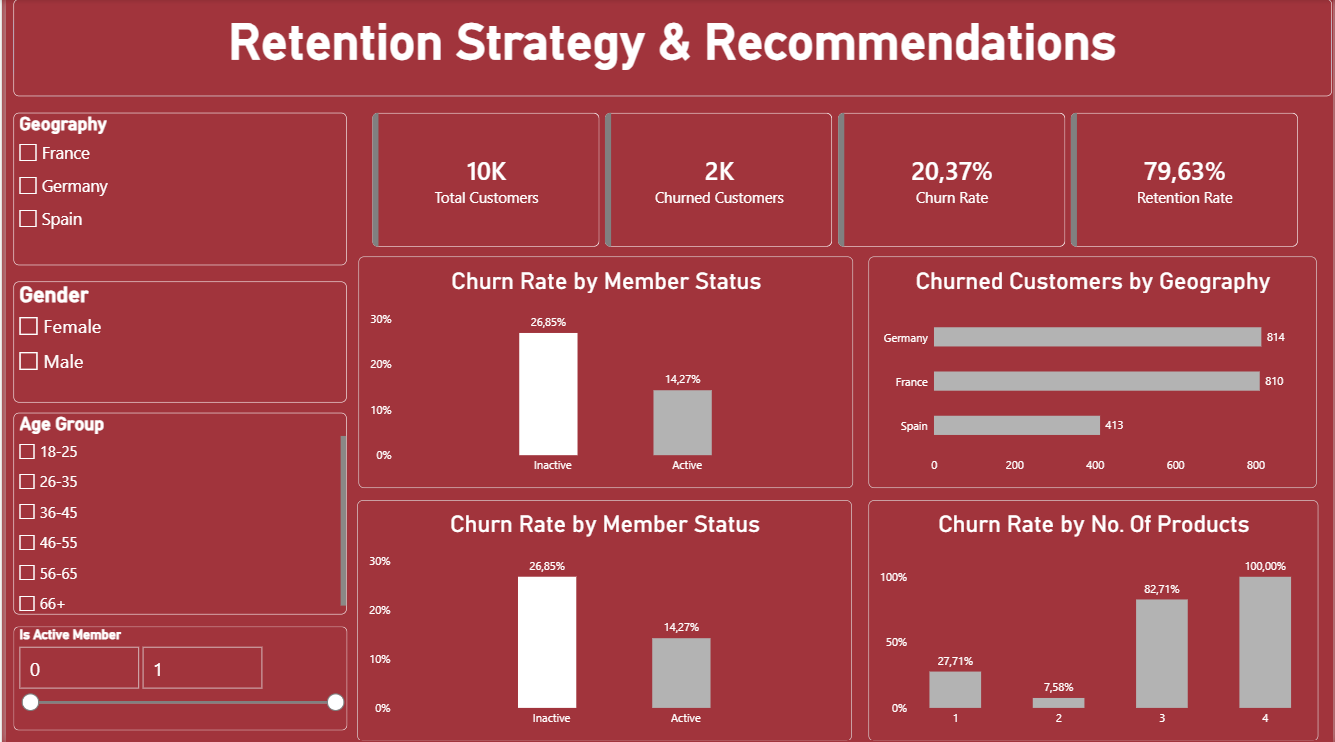

Layout of this report page (visuals, bound fields, positions):
{"tool":"powerbi","page":{"name":"Retention Strategy & Recommendations","canvas":[1920,1080],"ordinal":6},"visuals":[{"type":"textbox","box":[10.8,0,1908.8,279.2],"z":0},{"type":"shape","box":[10.8,0,1908.8,140.7],"z":1000},{"type":"textbox","box":[10.8,0,1908.8,140.7],"z":2000},{"type":"cardVisual","fields":{"Data":["churn.Total Customers","churn.Churned Customers","churn.Churn Rate","churn.Retention Rate"]},"box":[530.2,164.5,1343.9,194.8],"z":3000},{"type":"clusteredColumnChart","fields":{"Category":["churn.Member Status"],"Y":["churn.Churn Rate"]},"box":[510.7,372.2,716.3,335.4],"z":4000},{"type":"clusteredColumnChart","fields":{"Category":["churn.No. Of Products"],"Y":["churn.Churn Rate"]},"box":[1248.7,725,651.4,348.4],"z":5000},{"type":"slicer","fields":{"Values":["churn.Geography"]},"box":[10.8,164.5,482.6,220.7],"z":6000},{"type":"slicer","fields":{"Values":["churn.Gender"]},"box":[10.8,409,482.6,175.3],"z":7000},{"type":"slicer","fields":{"Values":["churn.Age Group"]},"box":[10.8,599.5,482.6,292.2],"z":8000},{"type":"slicer","fields":{"Values":["churn.Is Active Member"]},"box":[10.8,908.9,483,150],"z":9000},{"type":"clusteredColumnChart","fields":{"Category":["churn.Member Status"],"Y":["churn.Churn Rate"]},"box":[508.6,725,716.3,348.4],"z":10000},{"type":"clusteredBarChart","fields":{"Category":["churn.Geography"],"Y":["churn.Churned Customers"]},"box":[1248.7,372.2,649,335],"z":11000}]}

Visuals, with their boxes in screenshot pixels (x1, y1, x2, y2), scaled from the page's 1920x1080 canvas onto the 1335x742 screenshot:
textbox: [x1=8, y1=0, x2=1334, y2=192]
shape: [x1=8, y1=0, x2=1334, y2=97]
textbox: [x1=8, y1=0, x2=1334, y2=97]
cardVisual - churn.Total Customers x churn.Churned Customers: [x1=369, y1=113, x2=1303, y2=247]
clusteredColumnChart - churn.Member Status x churn.Churn Rate: [x1=355, y1=256, x2=853, y2=486]
clusteredColumnChart - churn.No. Of Products x churn.Churn Rate: [x1=868, y1=498, x2=1321, y2=737]
slicer - churn.Geography: [x1=8, y1=113, x2=343, y2=265]
slicer - churn.Gender: [x1=8, y1=281, x2=343, y2=401]
slicer - churn.Age Group: [x1=8, y1=412, x2=343, y2=613]
slicer - churn.Is Active Member: [x1=8, y1=624, x2=343, y2=728]
clusteredColumnChart - churn.Member Status x churn.Churn Rate: [x1=354, y1=498, x2=852, y2=737]
clusteredBarChart - churn.Geography x churn.Churned Customers: [x1=868, y1=256, x2=1319, y2=486]
